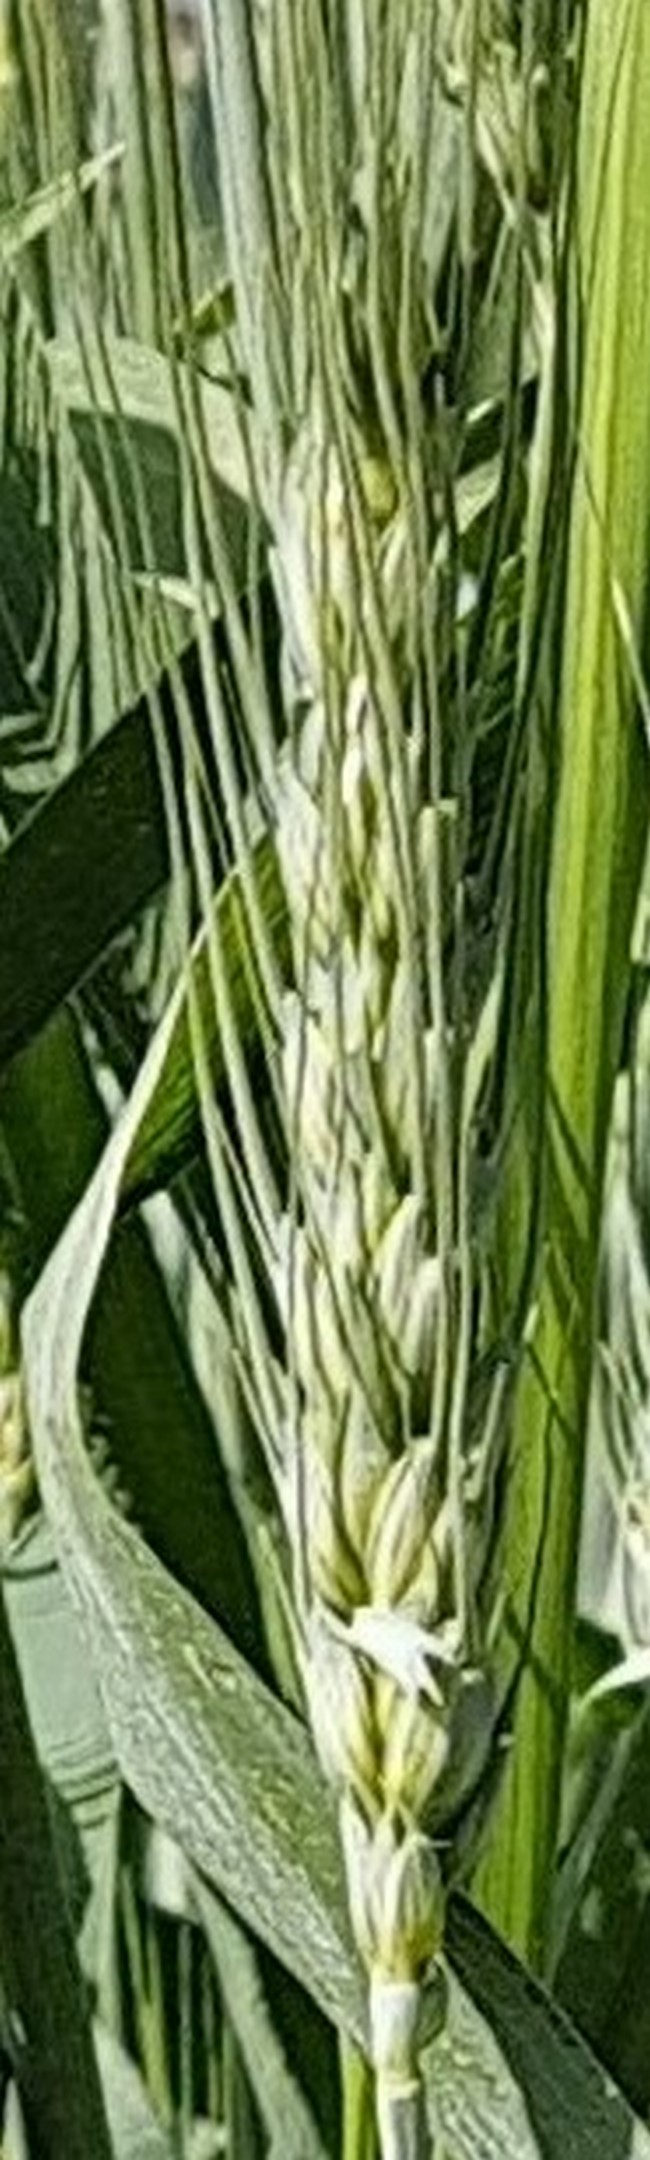Healthy Wheat: (219, 303, 519, 1938)
